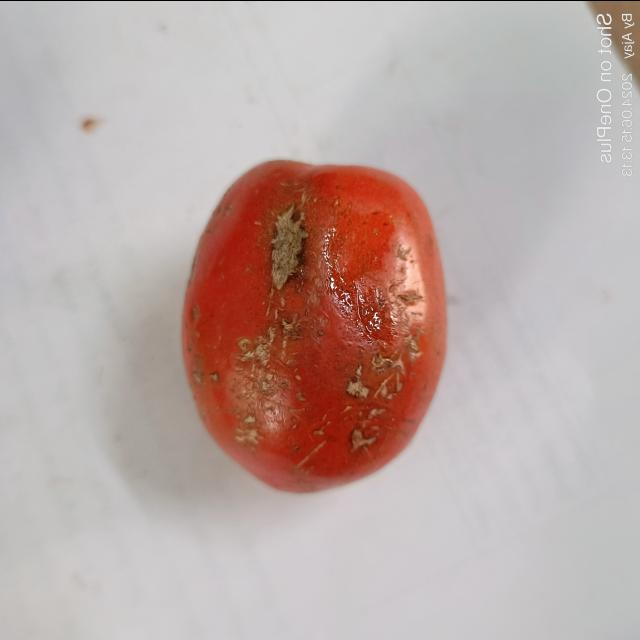Bacterial_Spot: (218, 310, 313, 448), (342, 289, 414, 450), (260, 199, 312, 296)
